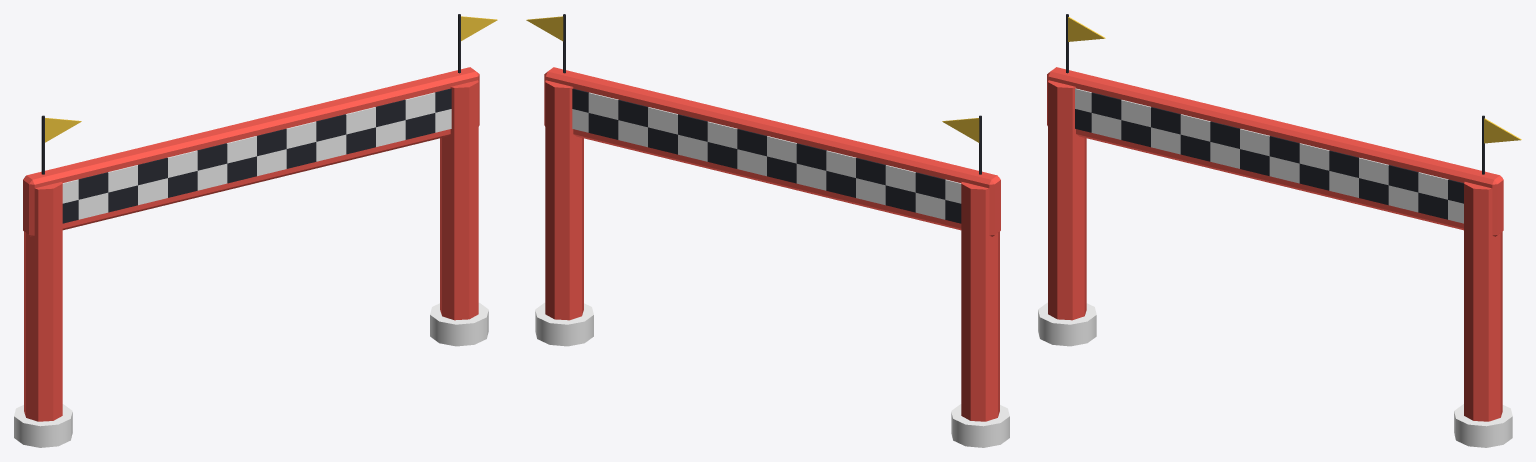
The model's file is checkpoint_gate.glb.
3 renders of one model, left to right at view 1: azimuth 30°, elevation 25°; view 2: azimuth 150°, elevation 25°; view 3: azimuth 330°, elevation 25°, orthographic.
Visible parts, largest first — view 1: checkpoint_gate; view 2: checkpoint_gate; view 3: checkpoint_gate.
Boxes of the visible parts, x1,y1,x2,y2 form: checkpoint_gate: (14, 14, 497, 447); checkpoint_gate: (526, 14, 1009, 447); checkpoint_gate: (1038, 14, 1521, 447).
Bounding box in the file's own units: 13.81 × 8.8 × 1.5.
